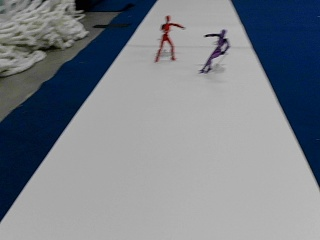pedestrian: (155, 15, 185, 62), (201, 27, 230, 72)
